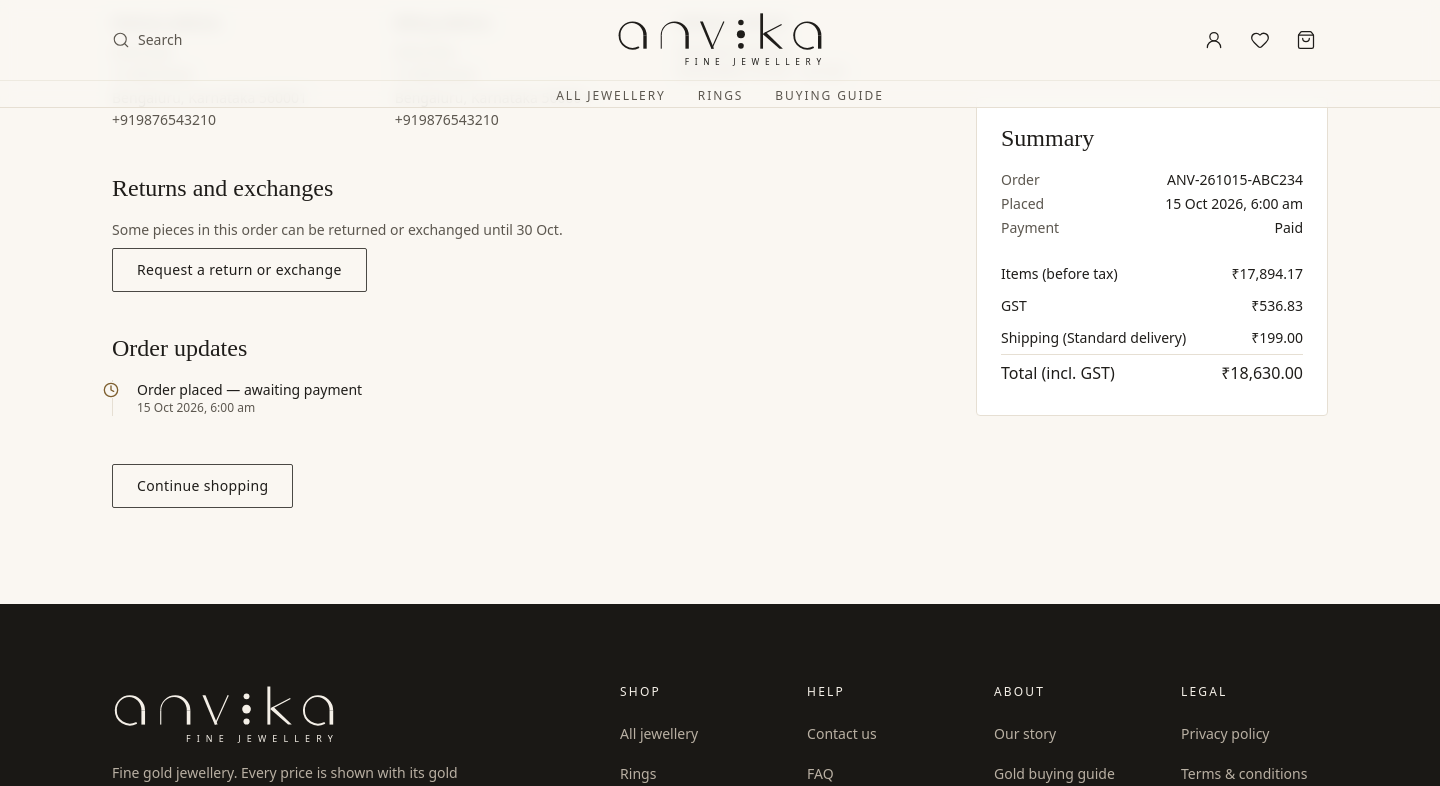
returns › asks for a return of a delivered piece and shows the request
(page scrolled)
Click the button "Request a return or exchange".
click(239, 270)  # box x1=112 y1=248 x2=367 y2=292
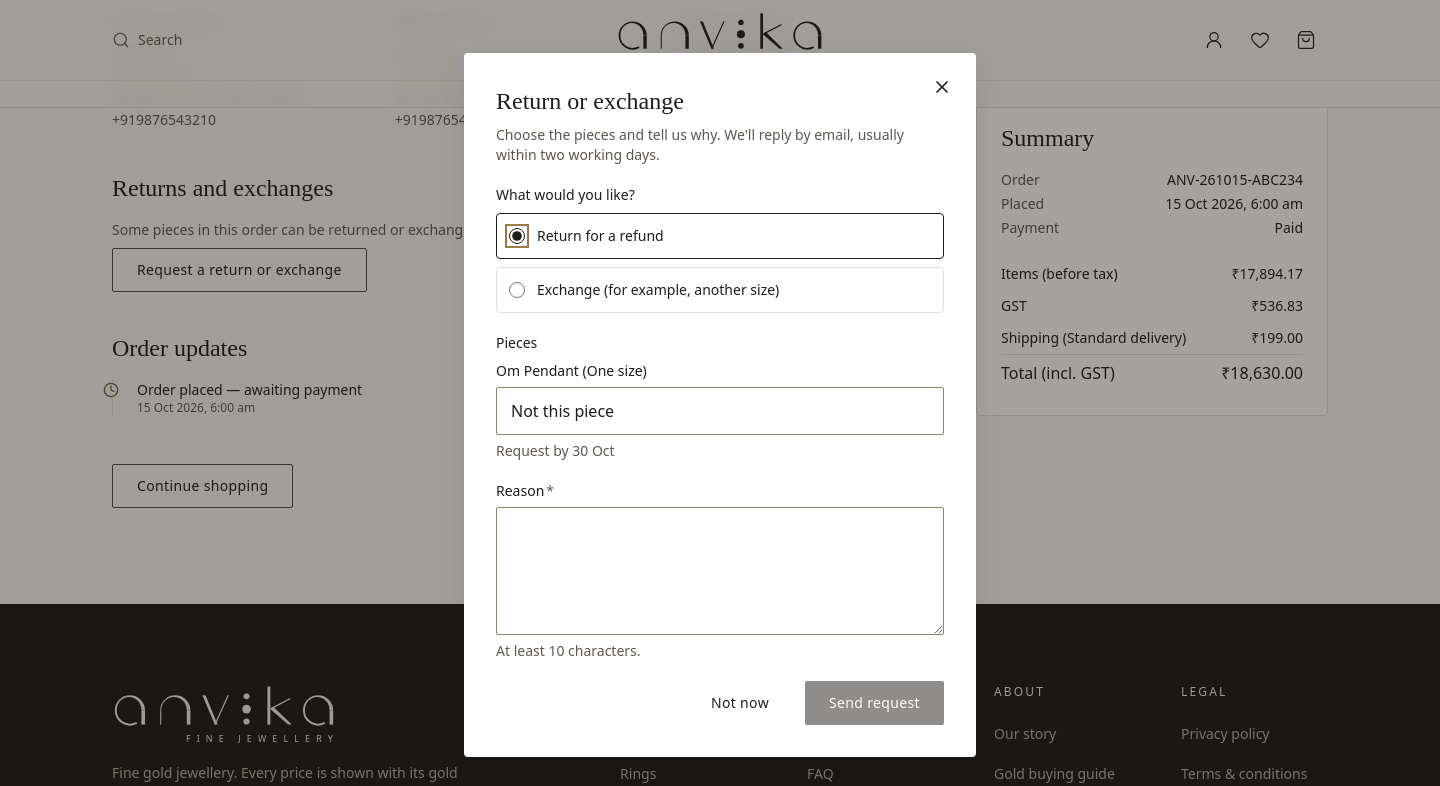
Check: the button "Send request" is disabled, box x1=805 y1=681 x2=944 y2=725
Select "1 of 1" in the dropdown labelled "Om Pendant (One size)" at (720, 411), box x1=496 y1=387 x2=944 y2=435
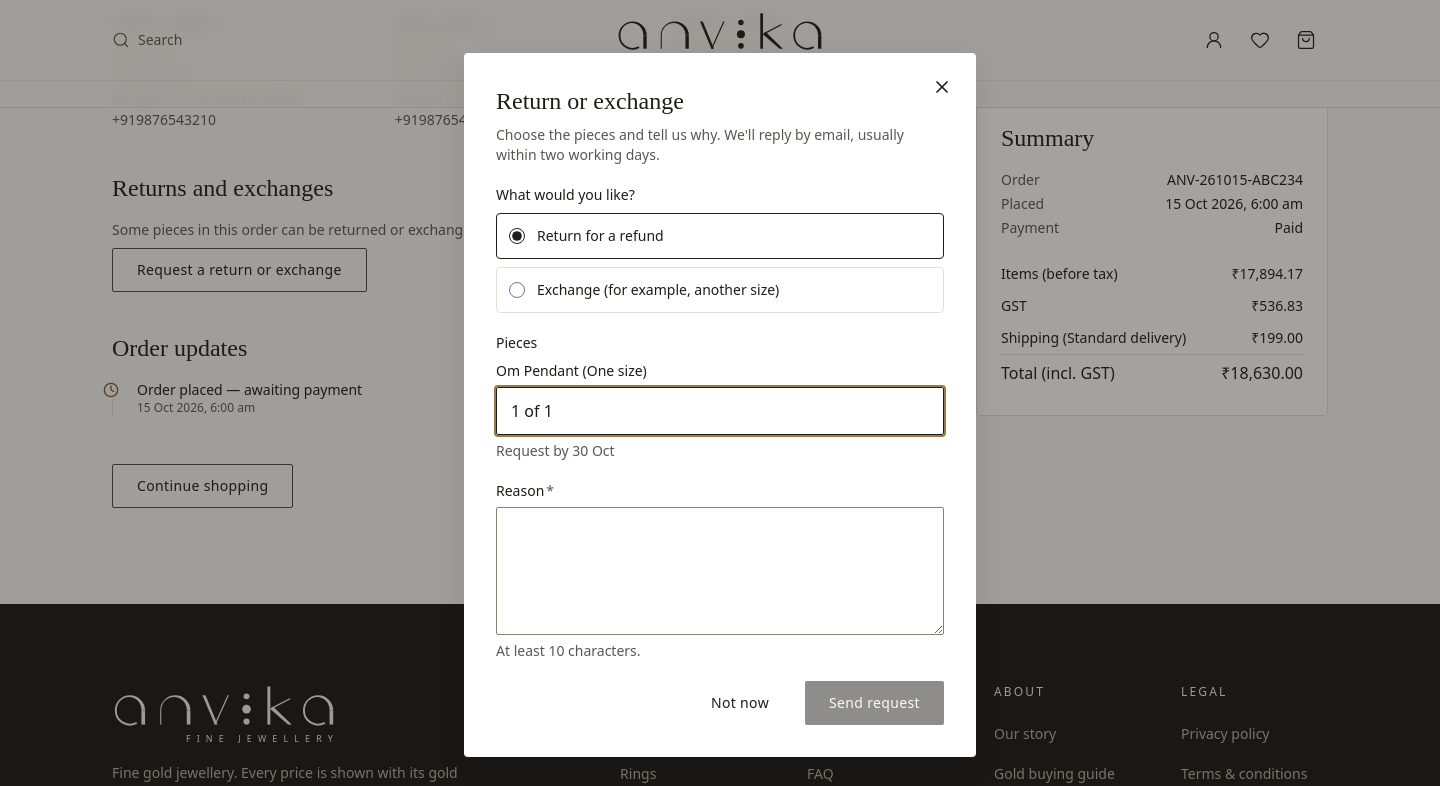
Type "Not what I expected" into the text box labelled "Reason*".
click(720, 571); type("Not what I expected")  # box x1=496 y1=507 x2=944 y2=635
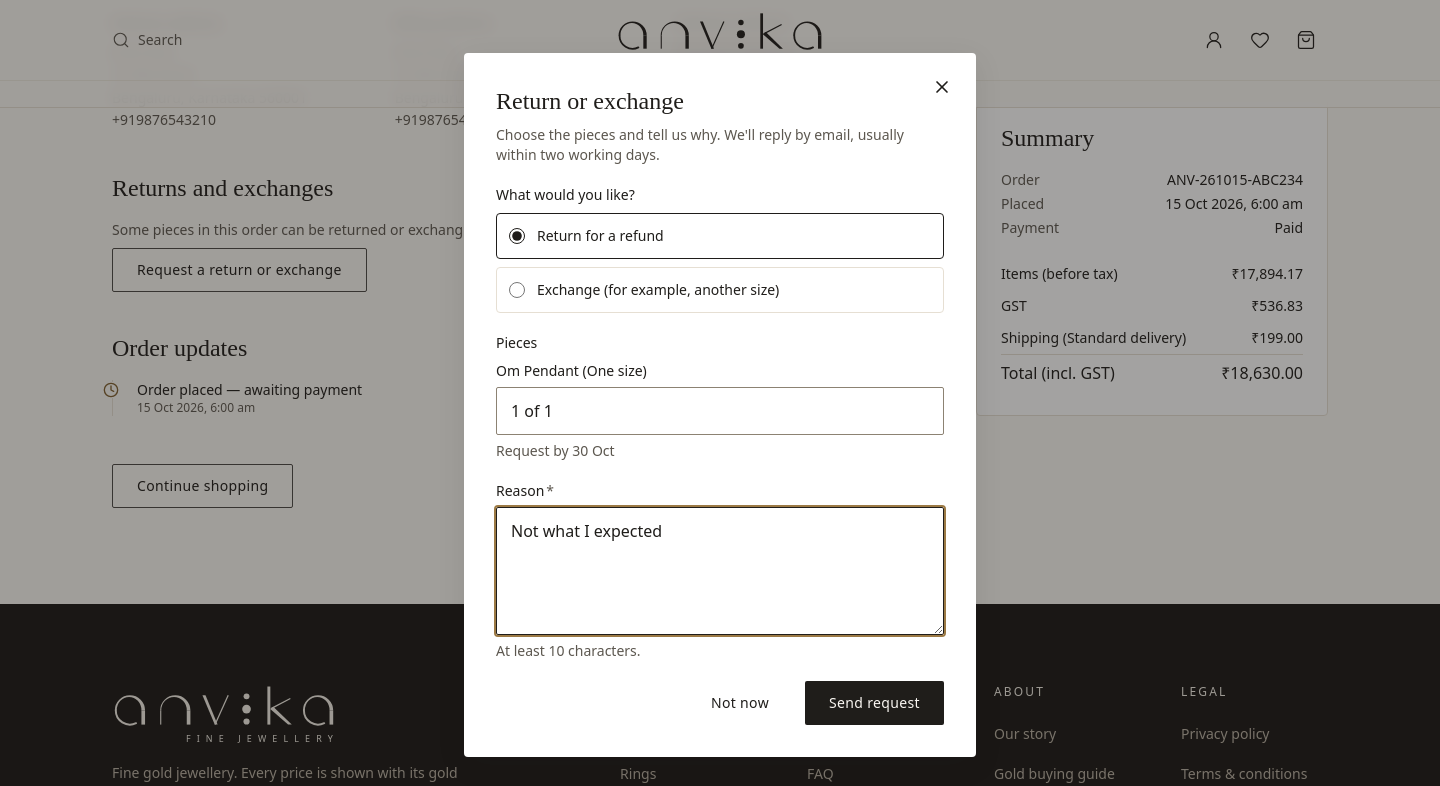
Click the button "Send request".
click(874, 703)  # box x1=805 y1=681 x2=944 y2=725
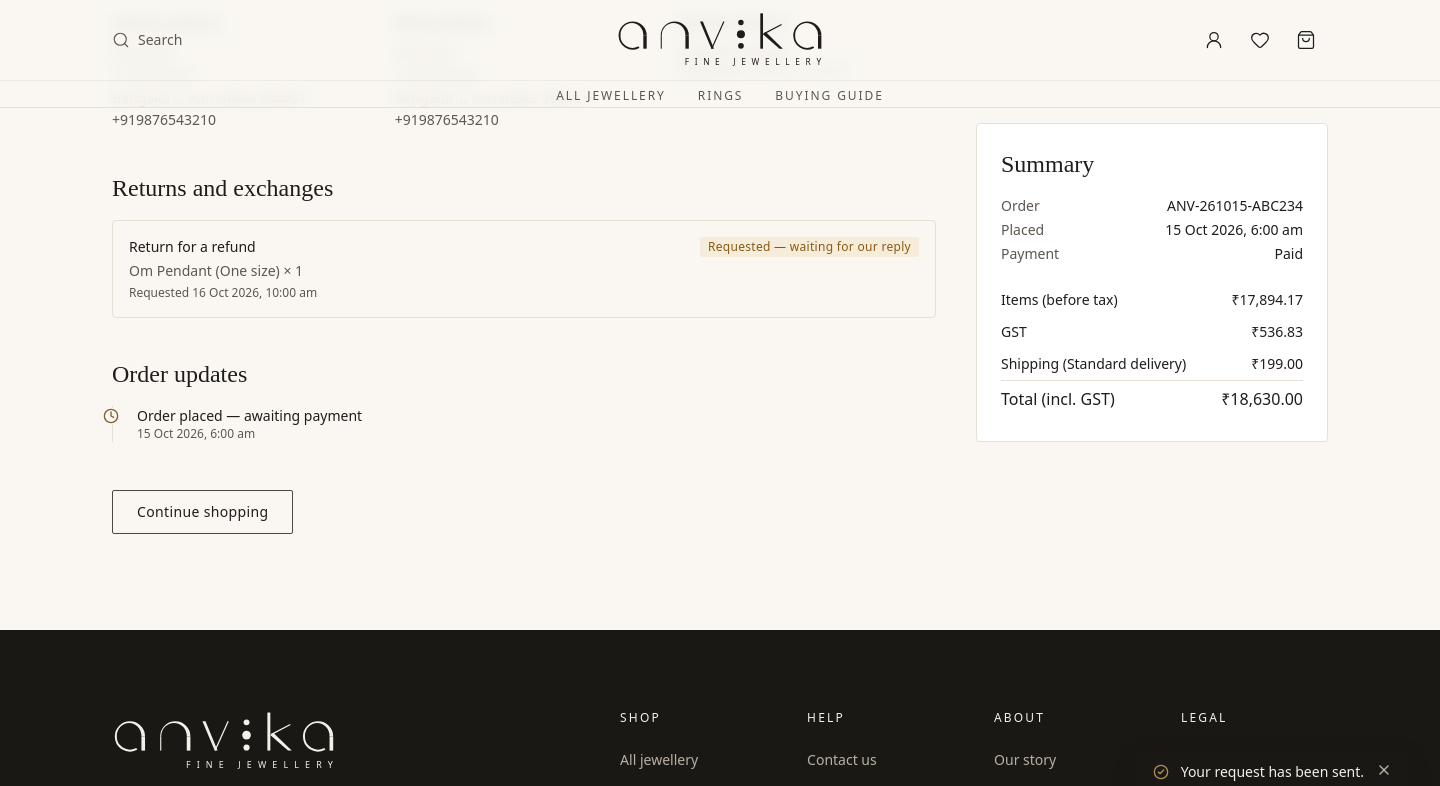
Check: the text "Requested — waiting for our reply" is shown, box x1=700 y1=237 x2=919 y2=257
Check: the button "Request a return or exchange" is gone
